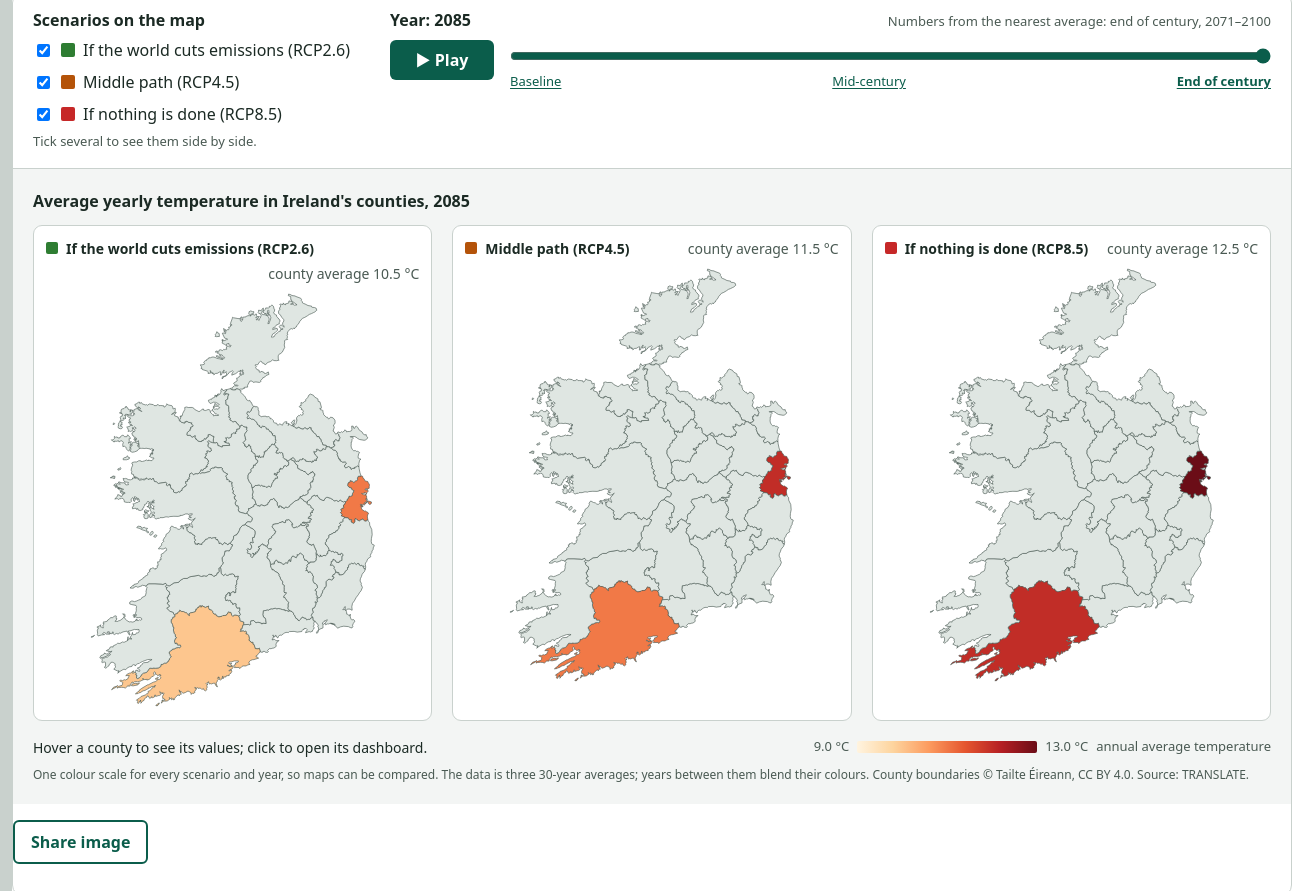
HomeMaps › shows the numbers of the nearest average as the slider moves, and writes the year to the address
The width and height of the screenshot is (1292, 891).
Set the slider to "2035" at coordinates (871, 56), box [510,48,1271,64]
(page scrolled)
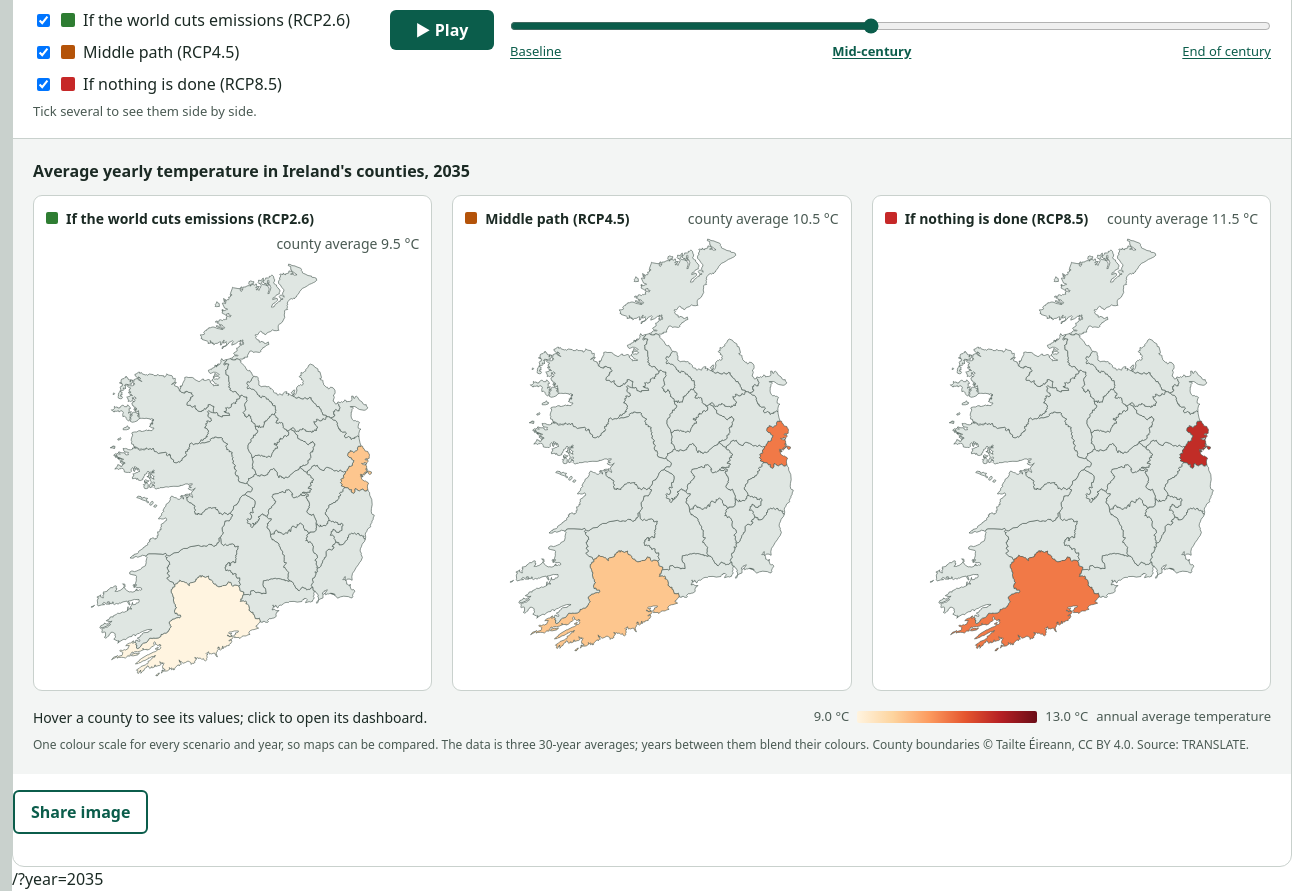
expect the link "Cork, RCP8.5: 11.0 °C, open county page" is shown: met, box [950,550,1099,650]
expect the text with test id "address" reads "/?year=2035": met, box [12,868,103,890]
